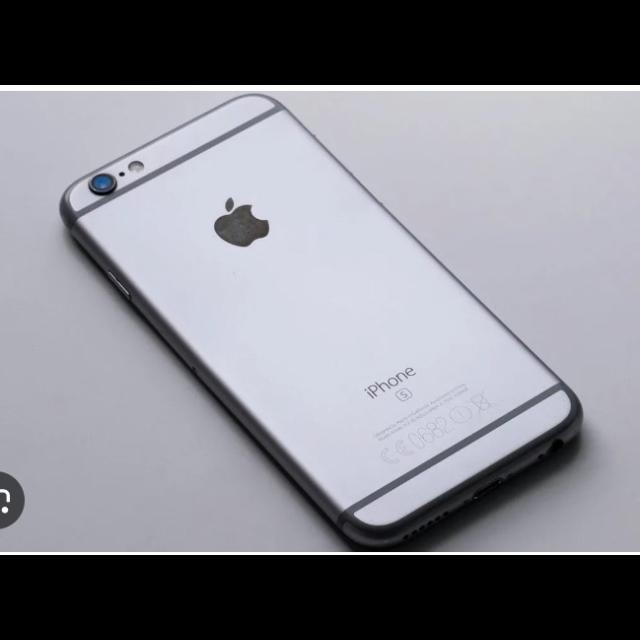Smartphone: (60, 95, 582, 550)
